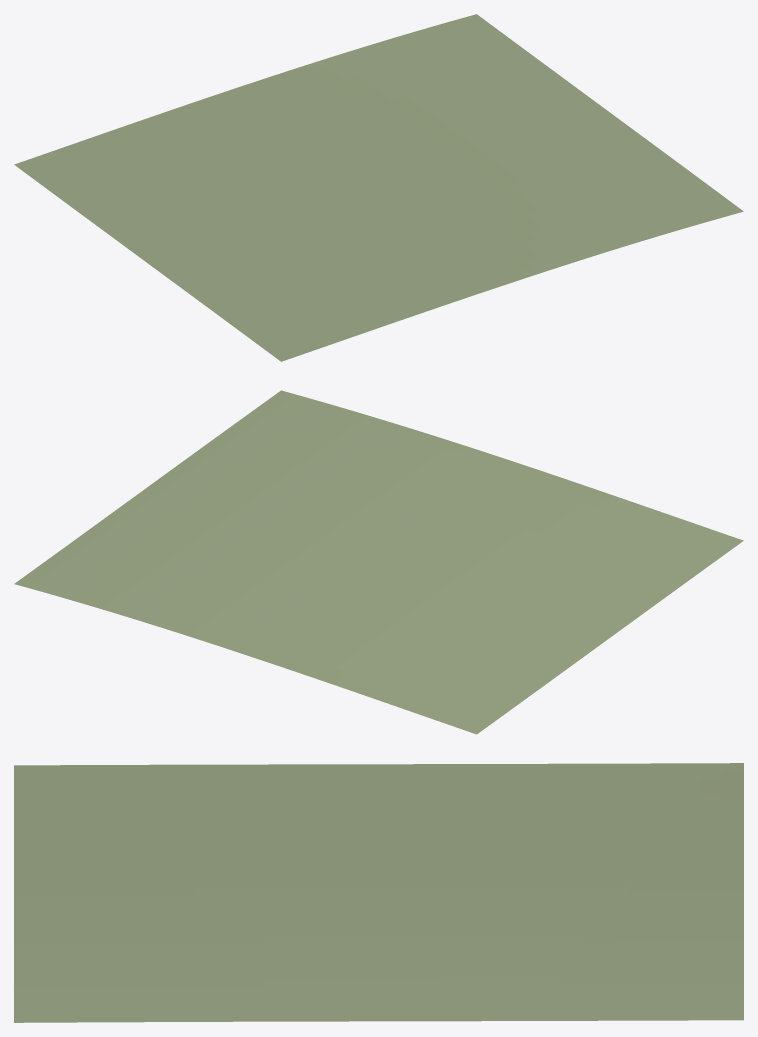
Rendered from valley-1-5.glb.
The picture shows the model from 3 angles, top to bottom: view 1: azimuth 30°, elevation 25°; view 2: azimuth 150°, elevation 25°; view 3: azimuth 270°, elevation 25°; orthographic projection. The views are drawn at different scales.
Parts seen in each view (by area): view 1: valley-1-5; view 2: valley-1-5; view 3: valley-1-5.
Boxes of the visible parts, x1,y1,x2,y2 form: valley-1-5: (14,14,743,361); valley-1-5: (14,390,743,734); valley-1-5: (14,763,743,1022).
Bounding box in the file's own units: 256 × 20.76 × 256.
